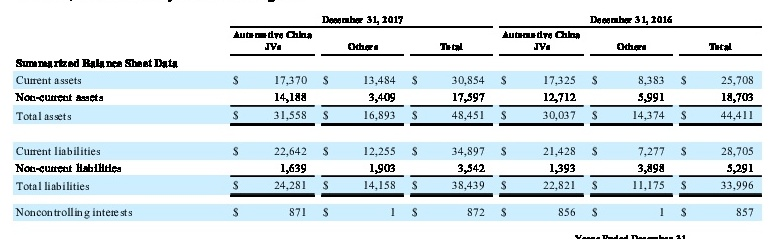table: (0, 0, 775, 239)
